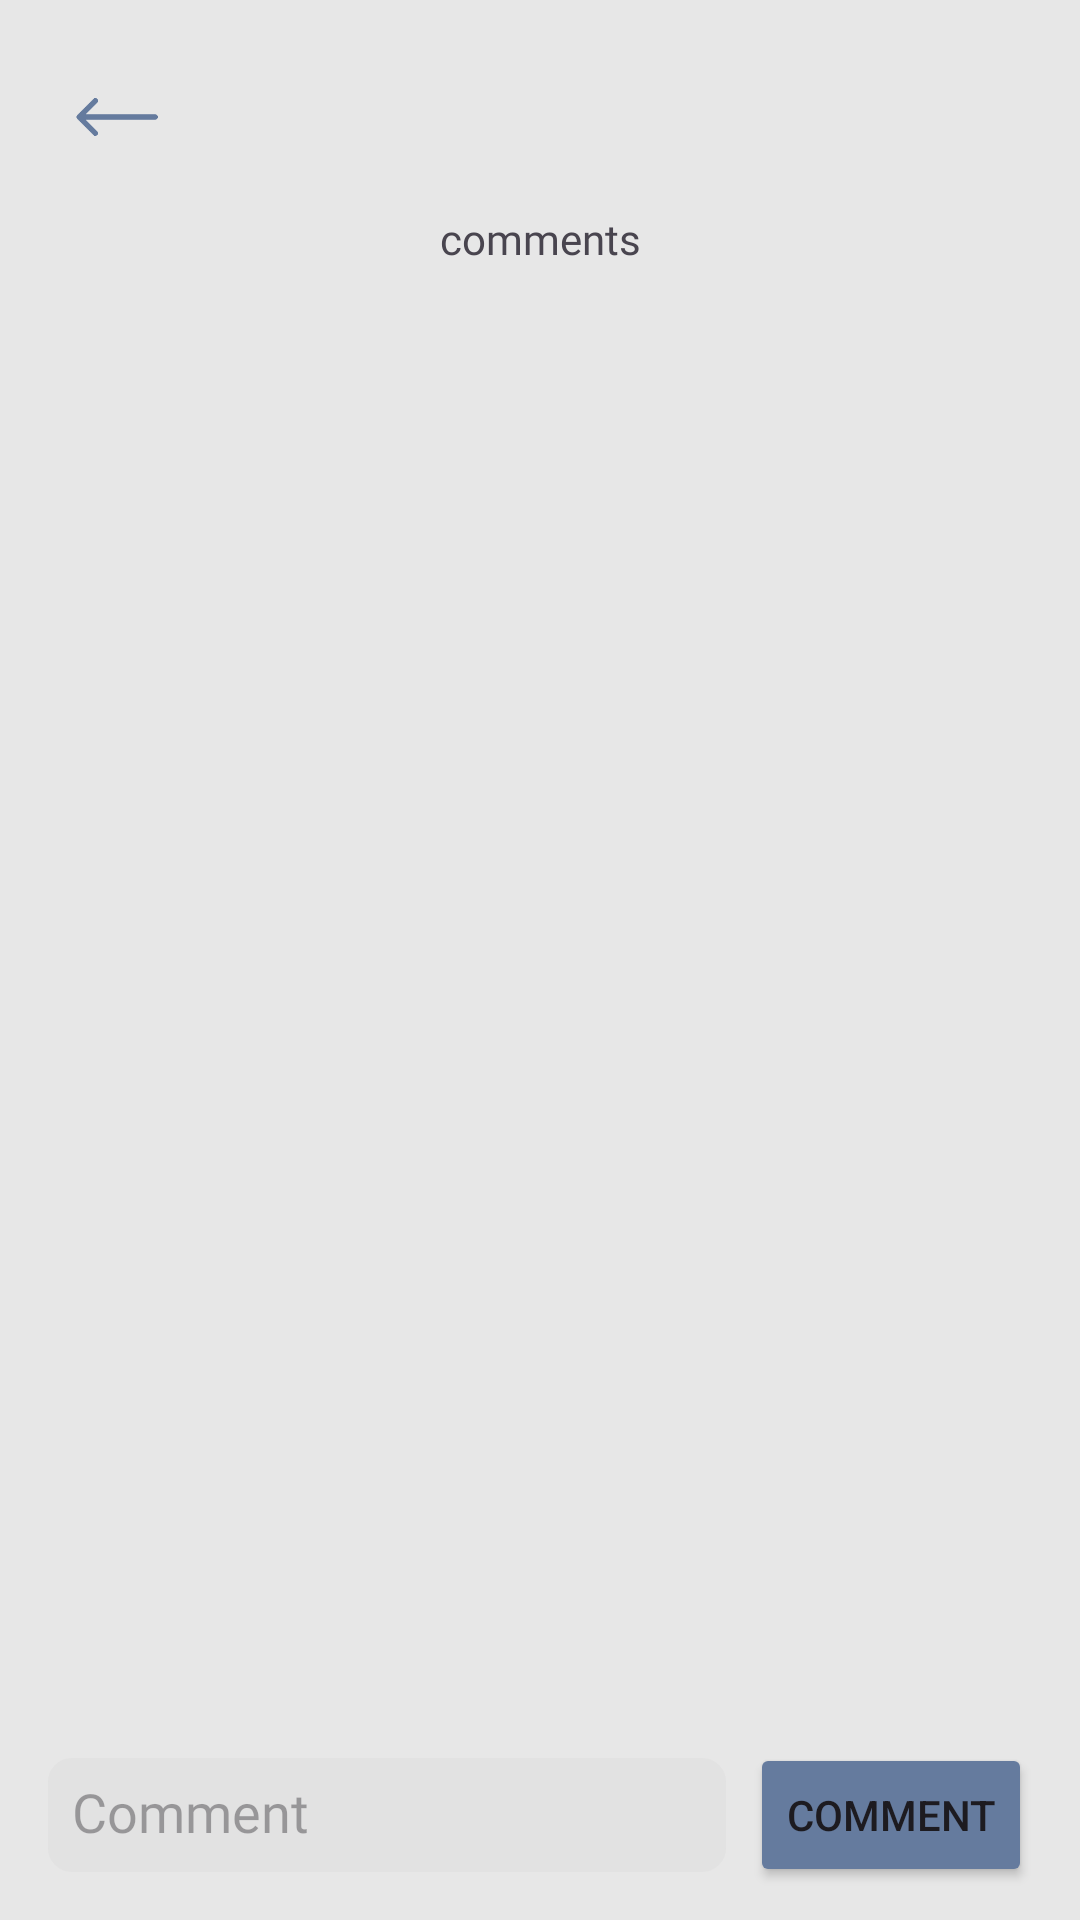

Locate icon controls on the screen. Image size 1080x1920, boxes as {"x1": x1, "y1": y1, "x2": x2, "y2": y2}.
back: {"x1": 76, "y1": 98, "x2": 158, "y2": 136}
